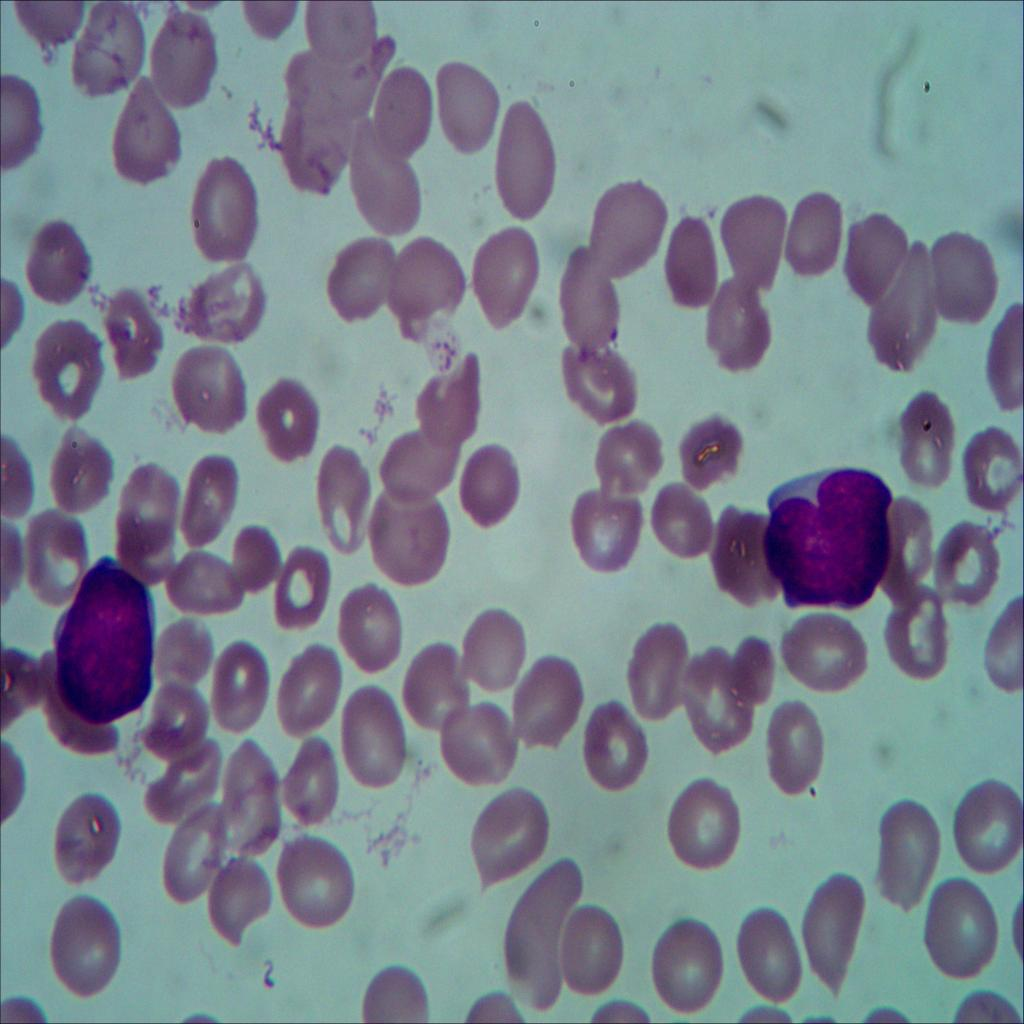Eritrosit: (497, 853, 582, 1012), (331, 116, 422, 231), (46, 763, 129, 888), (42, 891, 130, 999), (922, 876, 1006, 988), (282, 36, 394, 120), (361, 484, 454, 585), (486, 97, 556, 230), (868, 246, 939, 377), (549, 336, 650, 428), (590, 168, 672, 281), (705, 492, 784, 609), (562, 470, 644, 582), (462, 777, 552, 878), (108, 458, 180, 584), (277, 832, 362, 938), (108, 74, 187, 188), (318, 219, 402, 323), (336, 679, 410, 796), (761, 685, 832, 806), (66, 0, 147, 106), (886, 382, 960, 498), (802, 864, 866, 998), (470, 217, 540, 338), (185, 154, 260, 266), (661, 770, 740, 876), (13, 493, 90, 601), (730, 896, 807, 1004), (241, 358, 317, 466), (165, 335, 251, 430), (30, 317, 109, 420), (368, 422, 461, 509), (146, 11, 224, 113), (432, 698, 522, 786), (780, 612, 871, 699), (178, 256, 270, 342), (454, 441, 530, 545), (952, 770, 1024, 878), (679, 652, 756, 752), (204, 847, 274, 956), (705, 271, 779, 373), (22, 219, 103, 312), (511, 652, 586, 752), (554, 893, 626, 997), (930, 220, 996, 333), (144, 739, 220, 836), (333, 577, 405, 679), (622, 618, 694, 720), (160, 802, 230, 906), (874, 804, 939, 916), (308, 438, 370, 555), (391, 232, 468, 326), (43, 410, 115, 510), (558, 238, 624, 347), (718, 192, 787, 295), (648, 918, 727, 1007), (414, 350, 487, 446), (431, 60, 503, 157), (272, 636, 343, 733), (169, 455, 242, 549), (220, 739, 280, 853), (396, 645, 470, 736), (881, 591, 952, 685), (590, 406, 664, 496), (582, 698, 652, 793), (95, 281, 168, 371), (166, 540, 242, 626), (280, 100, 350, 193), (882, 495, 943, 601), (209, 636, 272, 737), (962, 420, 1024, 522), (302, 0, 390, 71), (660, 211, 720, 314), (678, 409, 743, 503), (929, 517, 1001, 601), (272, 541, 335, 636), (280, 734, 342, 828), (843, 210, 905, 304), (652, 471, 714, 564), (460, 601, 524, 691), (785, 189, 845, 285), (375, 68, 435, 160), (361, 958, 430, 1024), (224, 512, 280, 593), (154, 682, 216, 755), (155, 612, 214, 688), (725, 636, 786, 709)
Limfoblast: (763, 465, 894, 612), (48, 554, 156, 724)
